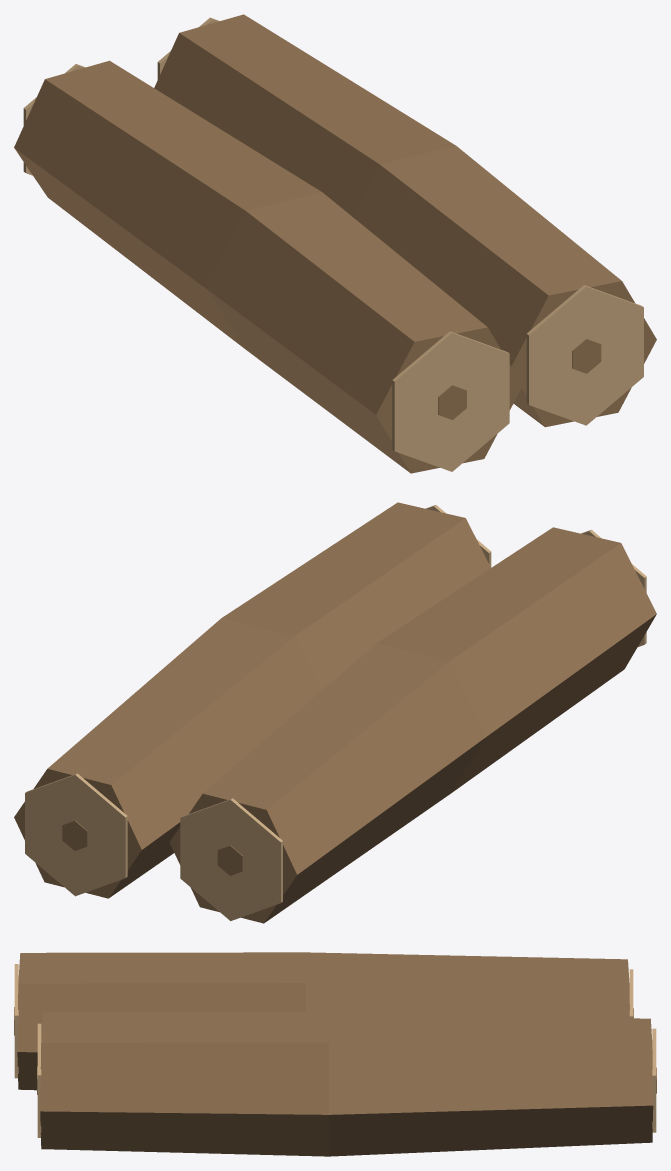
The model's file is log_pile_s.glb.
The picture shows the model from 3 angles, top to bottom: view 1: azimuth 30°, elevation 25°; view 2: azimuth 150°, elevation 25°; view 3: azimuth 270°, elevation 25°; orthographic projection. The views are drawn at different scales.
Parts seen in each view (by area): view 1: log_pile_s; view 2: log_pile_s; view 3: log_pile_s.
Part boxes in pixels (x1,y1,x2,y2): log_pile_s: [14, 14, 656, 473]; log_pile_s: [14, 502, 656, 923]; log_pile_s: [14, 952, 656, 1156].
Bounding box in the file's own units: 0.3806 × 0.1656 × 0.844.
